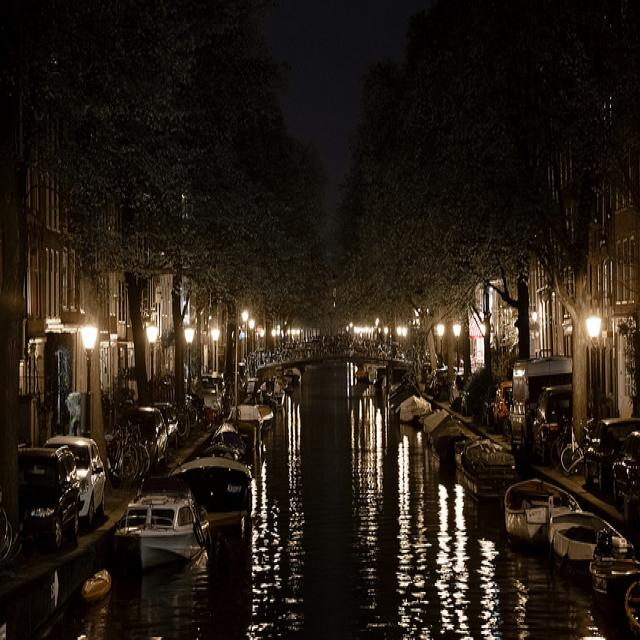Boat: (188, 445, 303, 553), (120, 488, 225, 598), (541, 546, 630, 635), (529, 496, 608, 572), (372, 382, 441, 465), (428, 390, 477, 475), (440, 434, 505, 498), (233, 400, 269, 451), (519, 469, 547, 530)
car: (506, 356, 615, 482), (6, 428, 72, 549), (45, 427, 113, 522), (602, 418, 640, 550), (188, 381, 239, 450), (140, 367, 177, 457), (108, 405, 148, 475)
